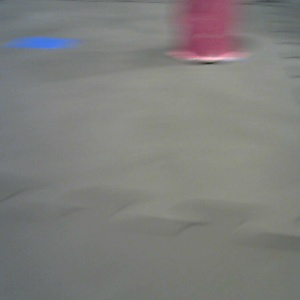Right: (165, 1, 251, 63)
